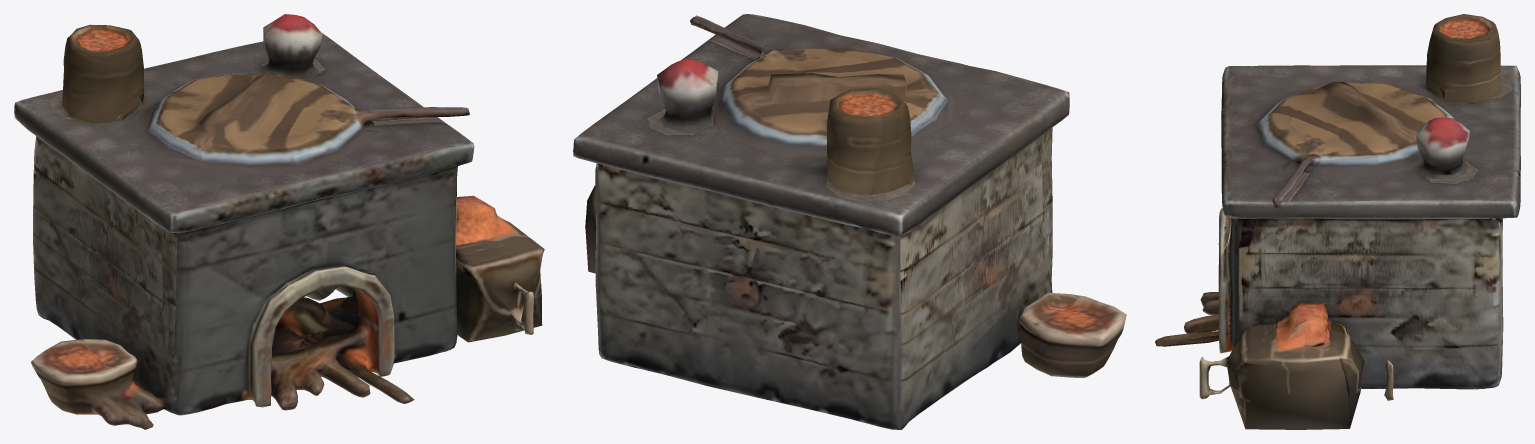
The model's file is Stove.fbx.
The picture shows the model from 3 angles, left to right: view 1: azimuth 30°, elevation 25°; view 2: azimuth 150°, elevation 25°; view 3: azimuth 270°, elevation 25°; orthographic projection. The views are drawn at different scales.
Visible parts, largest first — view 1: Mesh1.0; view 2: Mesh1.0; view 3: Mesh1.0.
Boxes of the visible parts, x1,y1,x2,y2 form: Mesh1.0: (14, 14, 544, 429); Mesh1.0: (573, 14, 1126, 429); Mesh1.0: (1155, 14, 1520, 429).
Bounding box in the file's own units: 192 × 110 × 140.
1 material, 1 textured.
